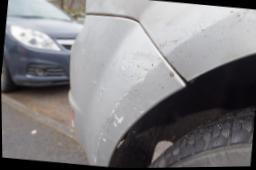Bumper: (66, 14, 189, 166)
Fender: (135, 2, 256, 79)
